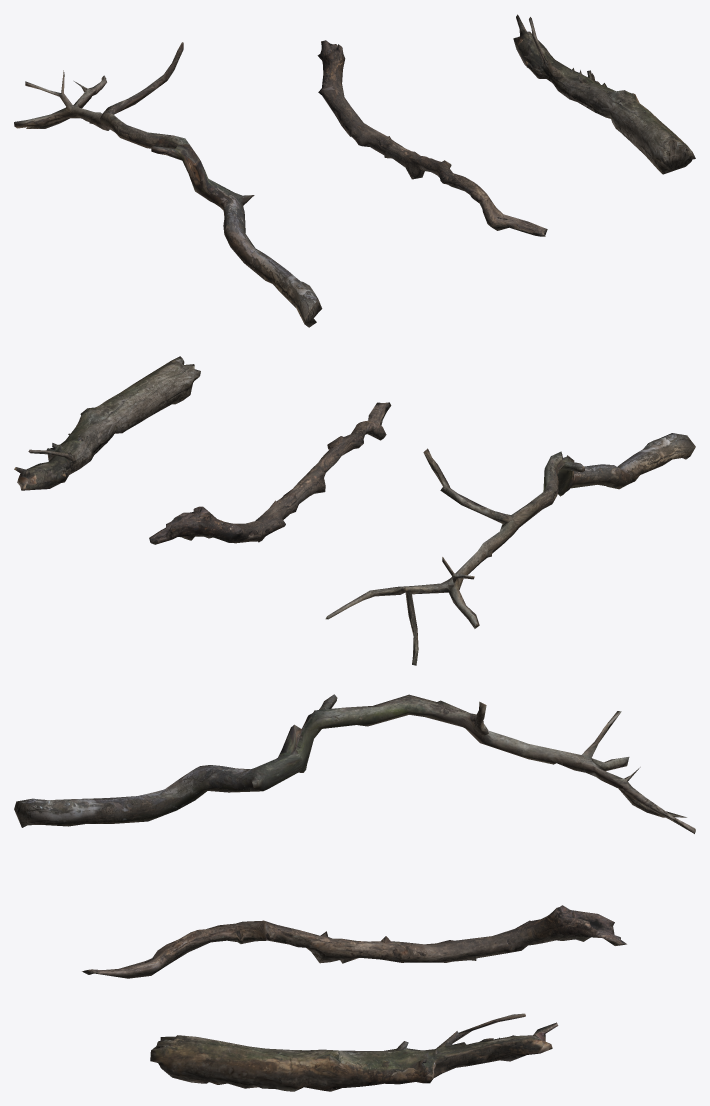
Rendered from dry_branches_medium_01.glb.
The picture shows the model from 3 angles, top to bottom: view 1: azimuth 30°, elevation 25°; view 2: azimuth 150°, elevation 25°; view 3: azimuth 270°, elevation 25°; orthographic projection. The views are drawn at different scales.
Visible parts, largest first — view 1: dry_branches_medium_01_a, dry_branches_medium_01_c, dry_branches_medium_01_b; view 2: dry_branches_medium_01_a, dry_branches_medium_01_c, dry_branches_medium_01_b; view 3: dry_branches_medium_01_a, dry_branches_medium_01_c, dry_branches_medium_01_b.
Boxes of the visible parts, x1,y1,x2,y2 form: dry_branches_medium_01_a: (14,42,322,327); dry_branches_medium_01_c: (513,14,695,174); dry_branches_medium_01_b: (317,40,547,236); dry_branches_medium_01_a: (325,433,695,665); dry_branches_medium_01_c: (14,356,200,490); dry_branches_medium_01_b: (149,402,391,544); dry_branches_medium_01_a: (14,694,695,833); dry_branches_medium_01_c: (150,1013,558,1091); dry_branches_medium_01_b: (82,905,626,978).
Bounding box in the file's own units: 1.35 × 0.3415 × 1.3.
Materials: 1 (1 with a texture image).
